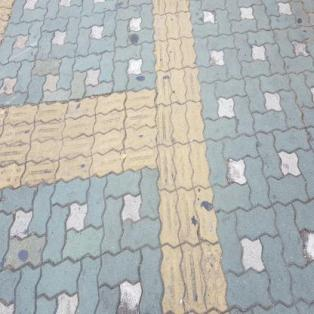Podoctatil: (149, 0, 230, 313), (0, 82, 157, 187)
